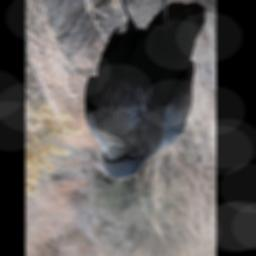Crow: (82, 0, 208, 181)
